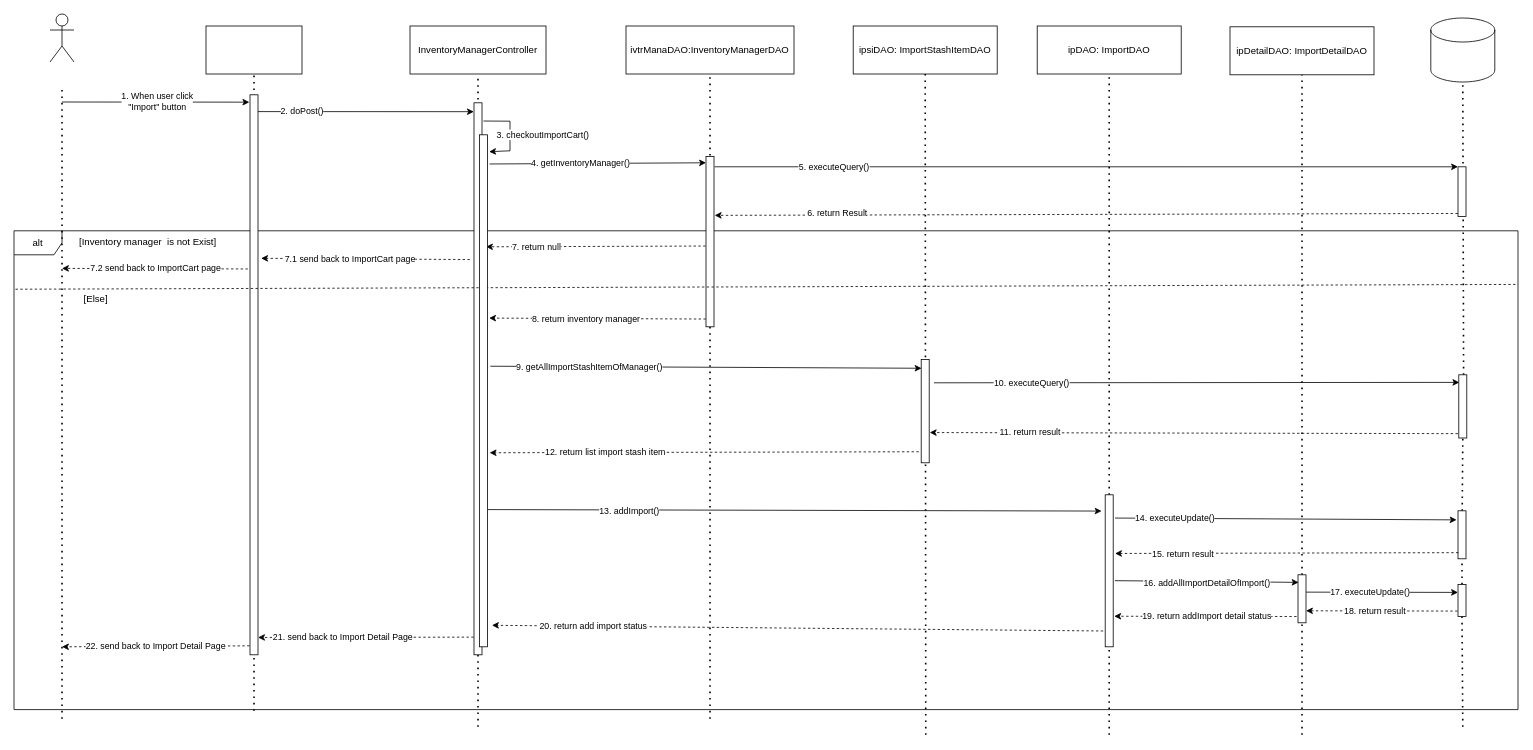
This 1533x750 diagram has some shape labels left out. Each missing label, with the box of its shape:
DB: (1430, 17, 1495, 82)
ImportCartPage: (205, 25, 302, 74)
Inventory Manager: (49, 13, 74, 62)
